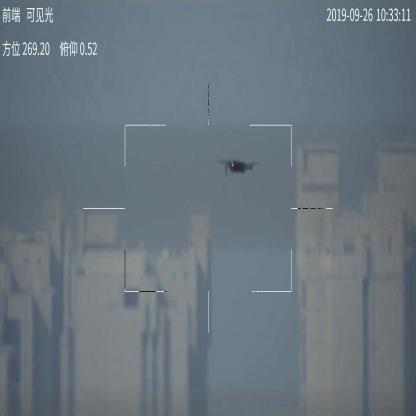uav: (220, 157, 257, 177)
